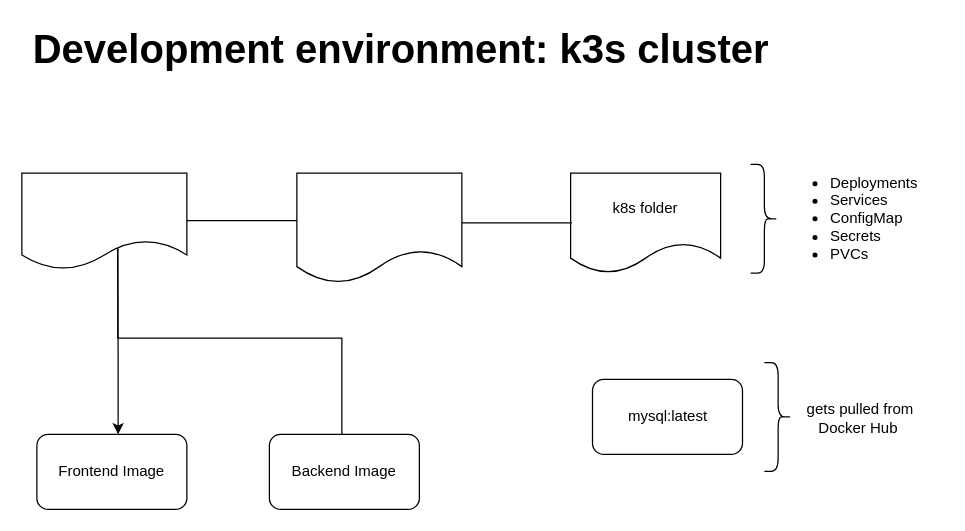
The diagram is 965 pixels wide and 531 high, and some of its shapes have lost their labels. The centre of each missing label's shape, as x and y in pixels:
"Dockerfile.dev" goes at pixel 104 220.
"skaffold.yaml" goes at pixel 379 227.
